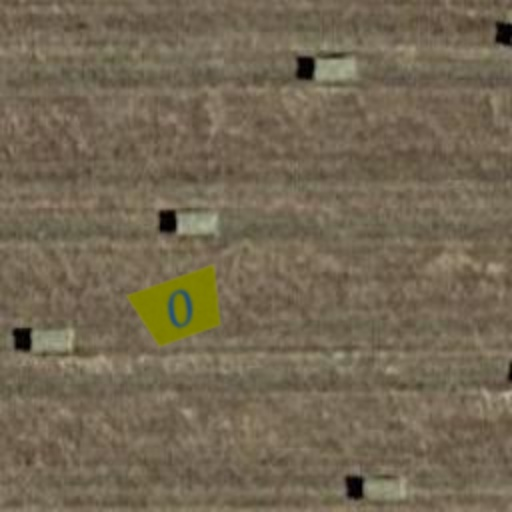trapezoid: (118, 246, 242, 370)
